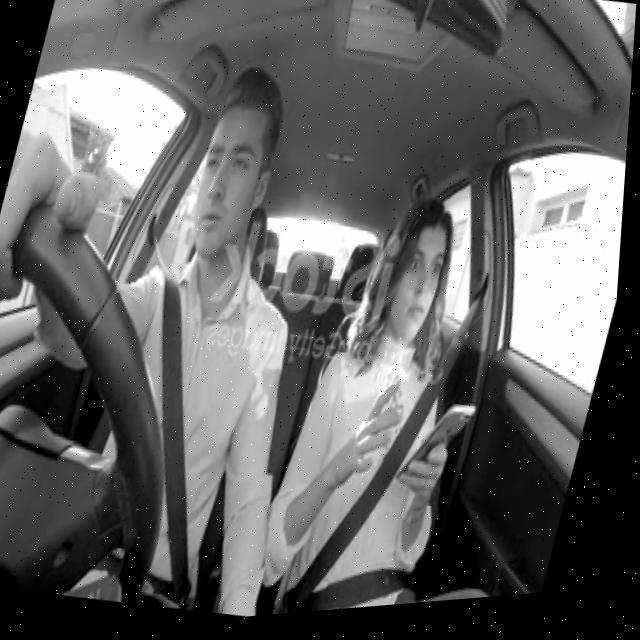PhoneCall: (396, 400, 486, 504)
